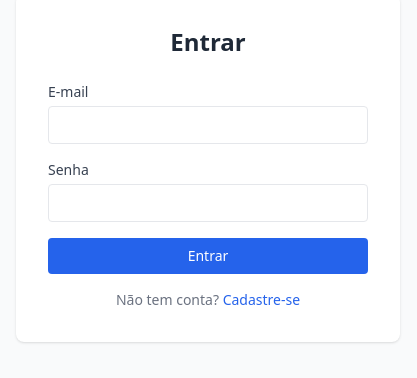
it: LoginPage › shows error message on failed login
Step 1. Type "wrong@example.com" into the field labelled "E-mail" → (208, 125), box 48,106 -> 368,144
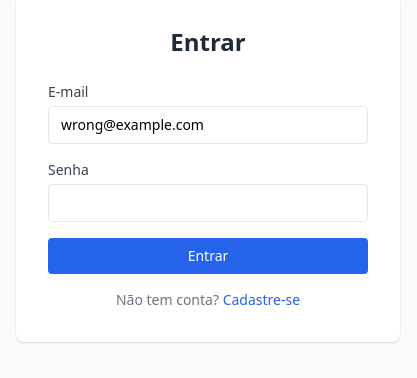
Step 2. Type "wrongpass" into the password field labelled "Senha" → (208, 203), box 48,184 -> 368,222
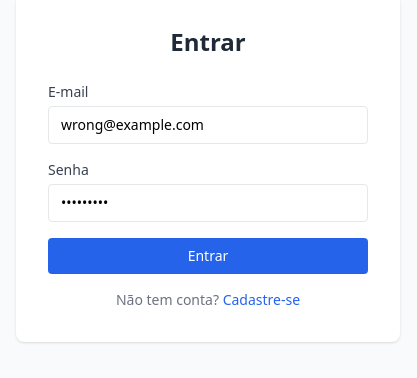
Step 3. Click the button "Entrar" → (208, 256), box 48,238 -> 368,274
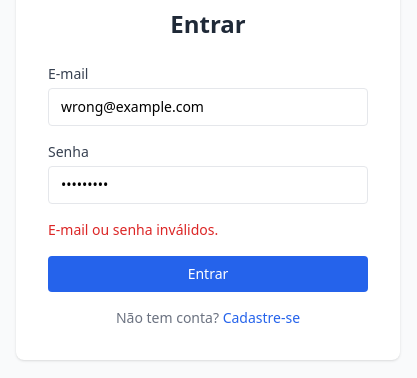
Expected: the message shows "E-mail ou senha inválidos", 48,220 -> 218,239
